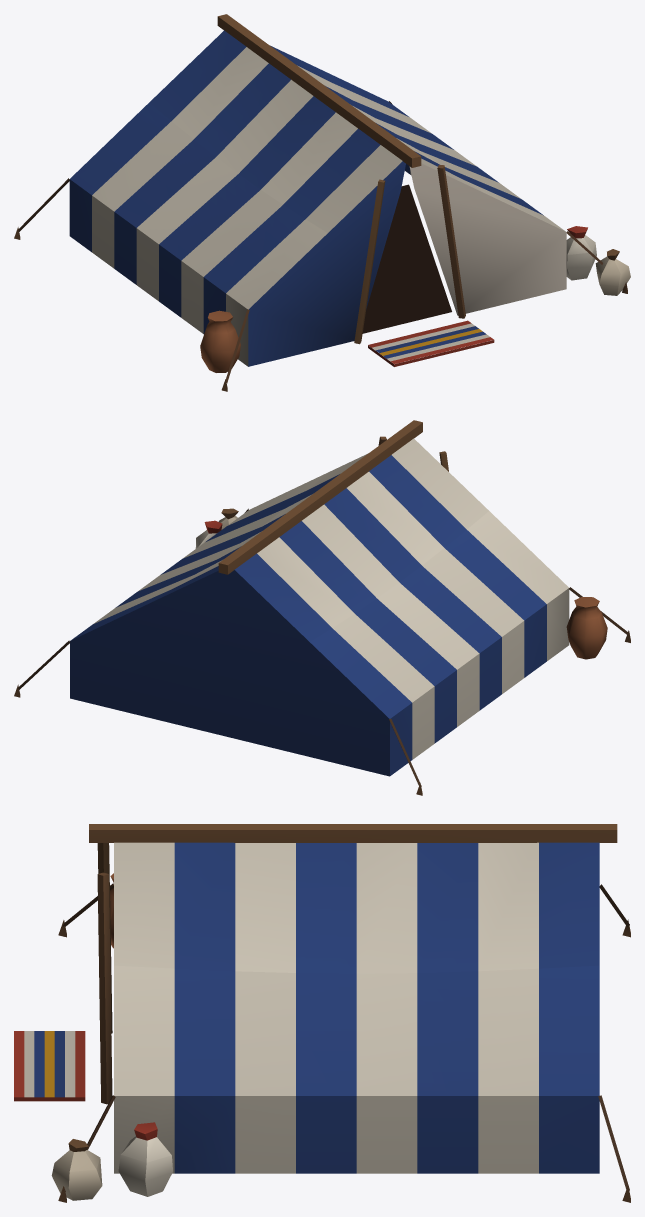
The model's file is tente.glb.
3 renders of one model, top to bottom at view 1: azimuth 30°, elevation 25°; view 2: azimuth 150°, elevation 25°; view 3: azimuth 270°, elevation 25°, orthographic. The views are drawn at different scales.
Parts seen in each view (by area): view 1: tente; view 2: tente; view 3: tente.
Part boxes in pixels (<box>): tente: <box>14,14,630,391</box>; tente: <box>14,420,630,795</box>; tente: <box>14,824,630,1202</box>.
Bounding box in the file's own units: 1.8 × 0.745 × 1.73.
